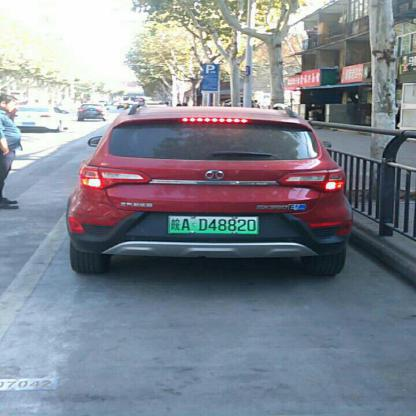lp: (169, 215, 258, 234)
